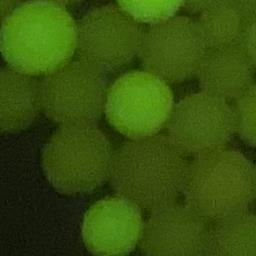negative: (41, 122, 120, 195), (108, 137, 188, 209), (169, 87, 240, 154), (183, 150, 256, 214), (140, 18, 206, 84), (39, 64, 110, 125), (72, 8, 141, 69), (139, 205, 211, 256), (197, 44, 255, 94), (0, 70, 44, 135), (195, 0, 241, 43), (235, 84, 256, 149), (235, 17, 256, 64)
positive: (0, 0, 80, 78), (102, 70, 174, 139), (75, 196, 146, 256), (112, 0, 188, 24)
